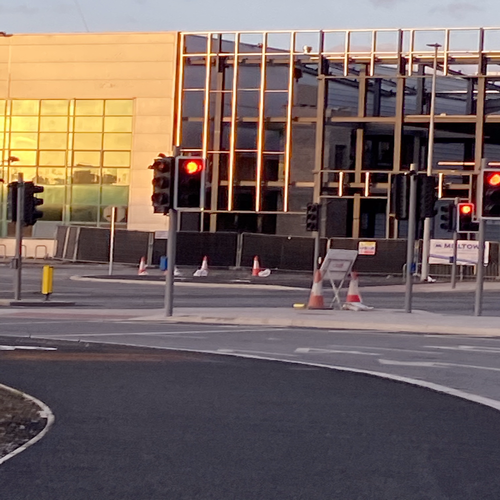Traffic Light: (174, 155, 205, 214), (150, 157, 179, 217), (448, 201, 485, 236), (307, 197, 332, 244), (482, 166, 500, 222)
